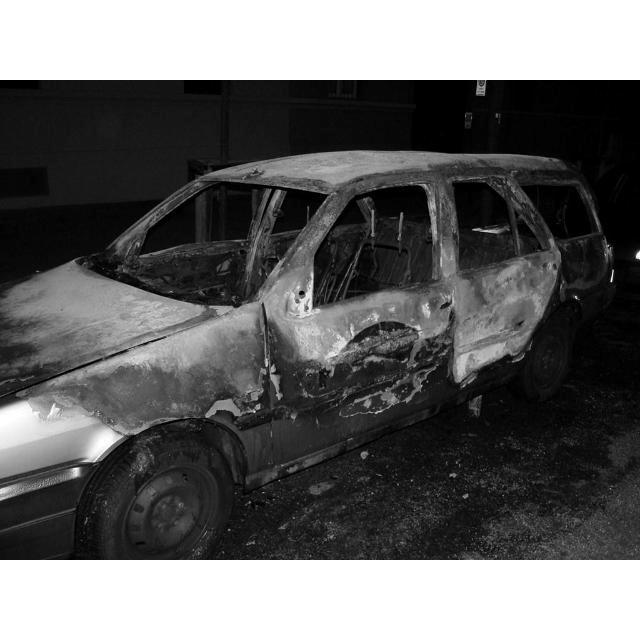doorouter-dent: (283, 304, 435, 449), (447, 279, 541, 365)
fender-dent: (92, 317, 262, 438)
